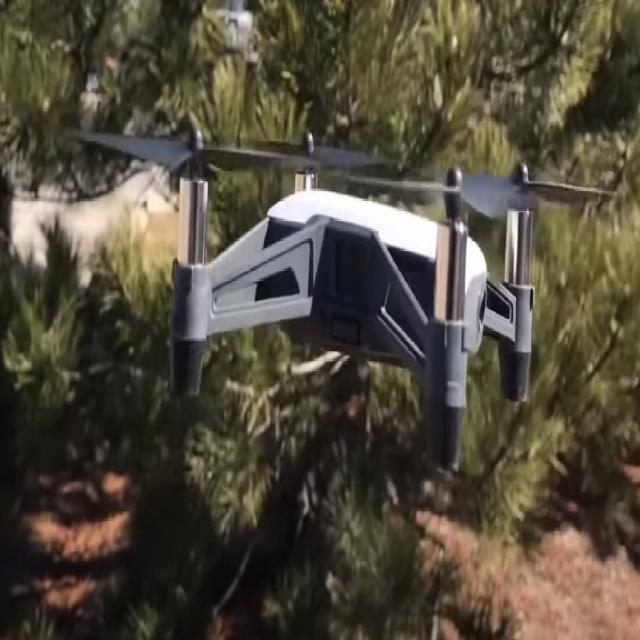drone: (45, 72, 622, 464)
